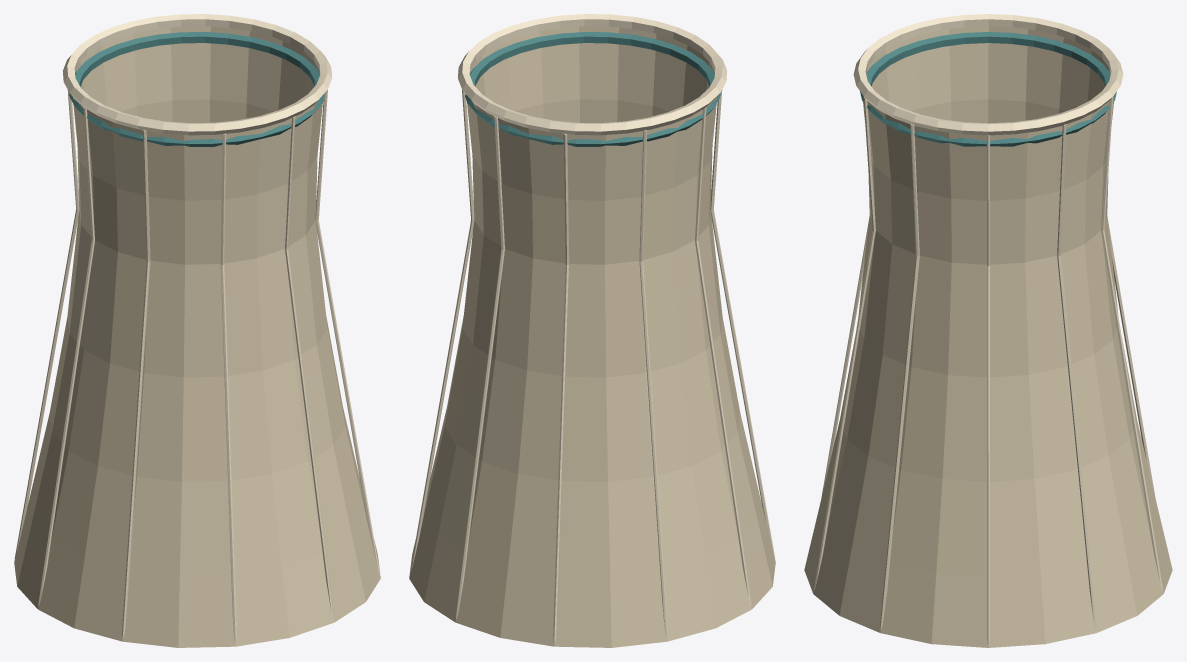
File: hsc3_cooling_tower.glb
3 views of the same model, side by side, from view 1: azimuth 30°, elevation 25°; view 2: azimuth 150°, elevation 25°; view 3: azimuth 270°, elevation 25° (orthographic).
Parts seen in each view (by area): view 1: hsc3_cooling_tower__hsc3-cream-enamel, hsc3_cooling_tower__hsc3-pale-trim, hsc3_cooling_tower__hsc3-deep-teal; view 2: hsc3_cooling_tower__hsc3-cream-enamel, hsc3_cooling_tower__hsc3-pale-trim, hsc3_cooling_tower__hsc3-deep-teal; view 3: hsc3_cooling_tower__hsc3-cream-enamel, hsc3_cooling_tower__hsc3-pale-trim, hsc3_cooling_tower__hsc3-deep-teal.
Part boxes in pixels (x1,y1,x2,y2): hsc3_cooling_tower__hsc3-cream-enamel: (14,26,380,647); hsc3_cooling_tower__hsc3-pale-trim: (14,14,380,642); hsc3_cooling_tower__hsc3-deep-teal: (69,32,324,146); hsc3_cooling_tower__hsc3-cream-enamel: (409,26,775,647); hsc3_cooling_tower__hsc3-pale-trim: (409,14,775,642); hsc3_cooling_tower__hsc3-deep-teal: (465,32,720,146); hsc3_cooling_tower__hsc3-cream-enamel: (804,26,1172,647); hsc3_cooling_tower__hsc3-pale-trim: (814,14,1162,644); hsc3_cooling_tower__hsc3-deep-teal: (860,32,1116,146).
Bounding box in the file's own units: 31 × 46.52 × 31.
